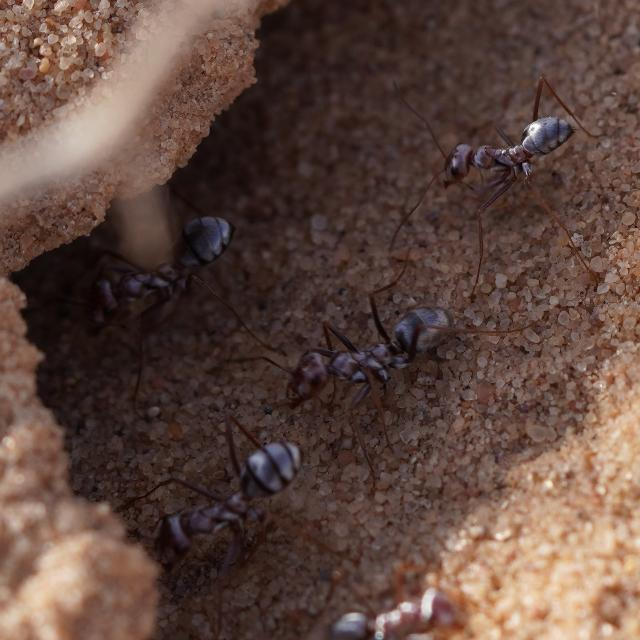Cataglyphis: (272, 273, 484, 421), (143, 418, 323, 584), (71, 195, 255, 349), (411, 84, 593, 218), (306, 570, 476, 640)
